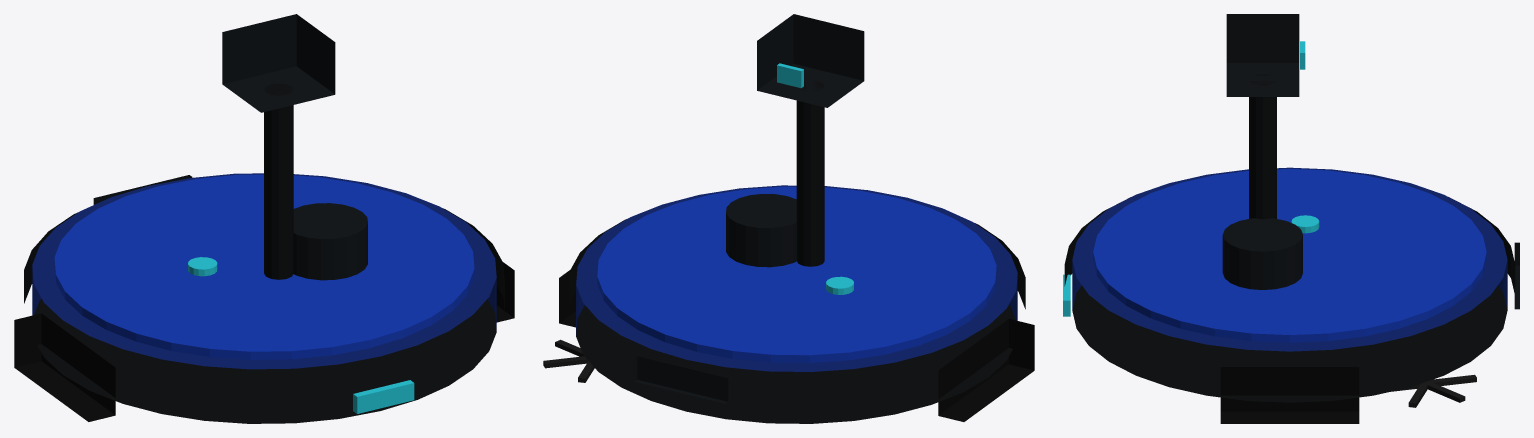
Rendered from robot_blue_h040.obj.
3 renders of one model, left to right at view 1: azimuth 30°, elevation 25°; view 2: azimuth 150°, elevation 25°; view 3: azimuth 270°, elevation 25°, orthographic. The views are drawn at different scales.
Visible parts, largest first — view 1: low_poly_robot_vacuum; view 2: low_poly_robot_vacuum; view 3: low_poly_robot_vacuum.
Part boxes in pixels (x1,y1,x2,y2): low_poly_robot_vacuum: [14, 14, 514, 423]; low_poly_robot_vacuum: [543, 14, 1034, 423]; low_poly_robot_vacuum: [1063, 14, 1519, 423].
Size of the model in its own units: 0.596 by 0.423 by 0.592.
